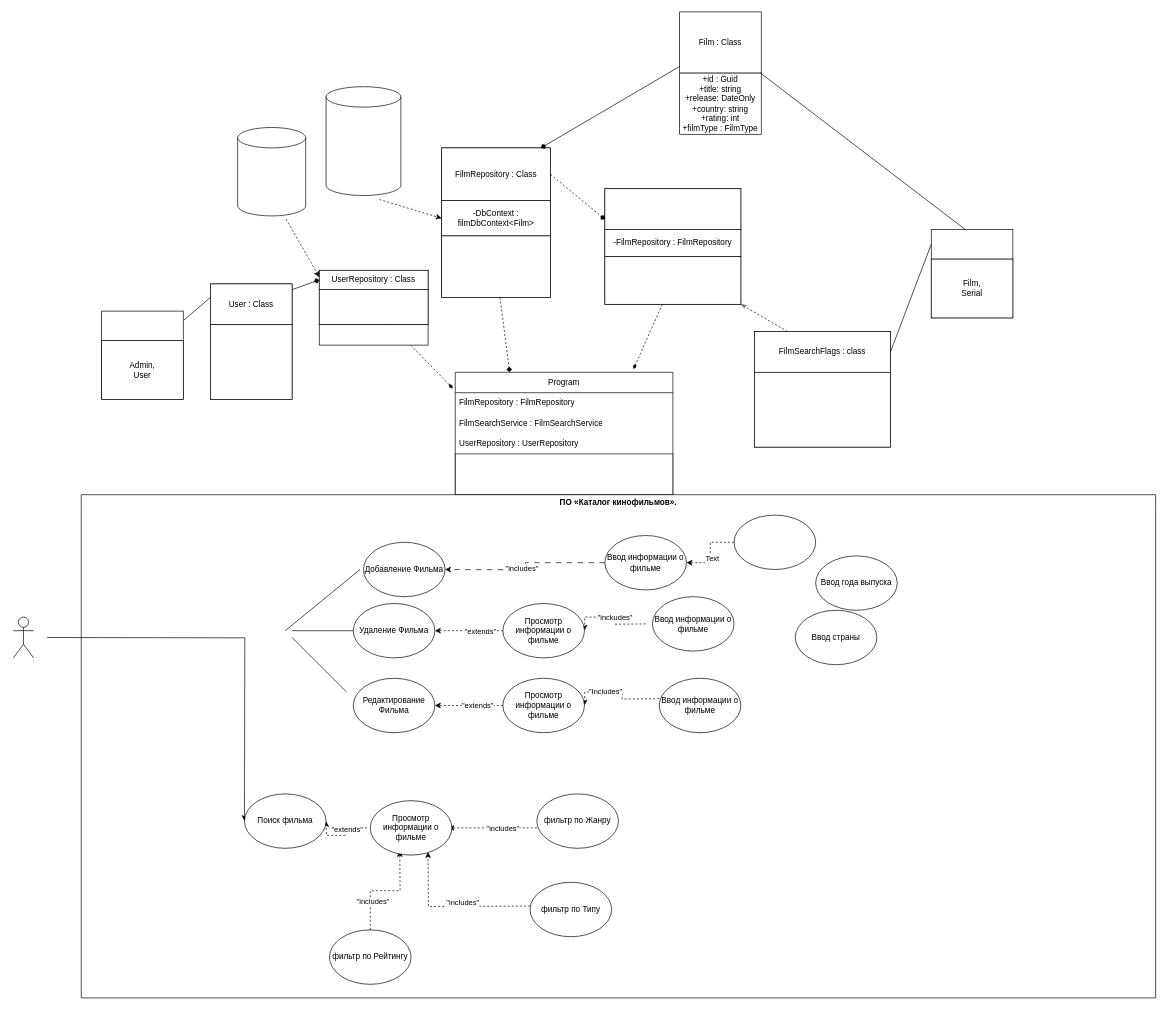
The diagram is 1168 pixels wide and 1010 high, and some of its shapes have lost their labels. Each missing label, with the centre of its shape:
+CreateFilm(Film) : Film +RemoveFilm(Guid id) : void +UpdateFilm(Film) : Film: point 495,266
+Main() : void: point 564,474
+nickname: string +role: Roles: point 251,362
+rating : int +title : string +year : DateTime +type : FilmType: point 822,409
-DbContext : userDbContext<User>: point 373,307
-Search(FilmSearchFlags) : []Film: point 672,280
Admin: point 23,637
filmDbContext: point 363,141
FilmSearchService : class: point 672,209
FilmType : Enum: point 972,244
GetUser(Guid id) : User: point 373,334
Roles : Enum: point 142,325
userDbContext: point 271,171
Ввод названия: point 774,542
